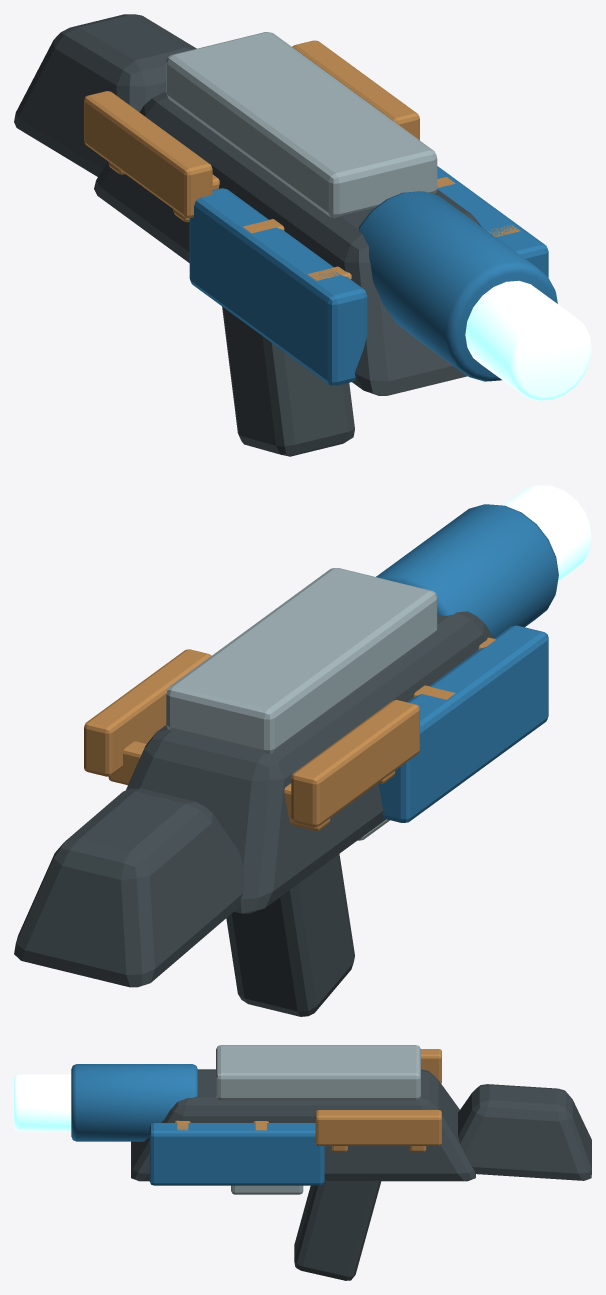
The model's file is neonContainmentPulseRifle.glb.
3 views of the same model, one above another, from view 1: azimuth 30°, elevation 25°; view 2: azimuth 150°, elevation 25°; view 3: azimuth 270°, elevation 25° (orthographic). The views are drawn at different scales.
Parts seen in each view (by area): view 1: Containment Pulse Rifle — Rifle charcoal, Containment Pulse Rifle — Rifle cobalt, Containment Pulse Rifle — Rifle steel, Containment Pulse Rifle — Rifle bronze, Containment Pulse Rifle — Rifle charged bore; view 2: Containment Pulse Rifle — Rifle charcoal, Containment Pulse Rifle — Rifle cobalt, Containment Pulse Rifle — Rifle steel, Containment Pulse Rifle — Rifle bronze, Containment Pulse Rifle — Rifle charged bore; view 3: Containment Pulse Rifle — Rifle charcoal, Containment Pulse Rifle — Rifle cobalt, Containment Pulse Rifle — Rifle steel, Containment Pulse Rifle — Rifle bronze, Containment Pulse Rifle — Rifle charged bore.
Boxes of the visible parts, bbox=[...] form: Containment Pulse Rifle — Rifle charcoal: bbox=[14, 14, 481, 456]; Containment Pulse Rifle — Rifle cobalt: bbox=[189, 166, 557, 385]; Containment Pulse Rifle — Rifle steel: bbox=[166, 32, 437, 218]; Containment Pulse Rifle — Rifle bronze: bbox=[84, 40, 520, 280]; Containment Pulse Rifle — Rifle charged bore: bbox=[465, 280, 591, 400]; Containment Pulse Rifle — Rifle charcoal: bbox=[14, 611, 494, 1016]; Containment Pulse Rifle — Rifle cobalt: bbox=[376, 504, 558, 822]; Containment Pulse Rifle — Rifle steel: bbox=[166, 568, 437, 840]; Containment Pulse Rifle — Rifle bronze: bbox=[84, 637, 495, 830]; Containment Pulse Rifle — Rifle charged bore: bbox=[503, 485, 591, 581]; Containment Pulse Rifle — Rifle charcoal: bbox=[131, 1069, 591, 1280]; Containment Pulse Rifle — Rifle cobalt: bbox=[71, 1064, 324, 1185]; Containment Pulse Rifle — Rifle steel: bbox=[216, 1045, 420, 1194]; Containment Pulse Rifle — Rifle bronze: bbox=[174, 1049, 441, 1152]; Containment Pulse Rifle — Rifle charged bore: bbox=[14, 1074, 71, 1131].
Size of the model in its own units: 0.545 by 0.7816 by 1.92.
